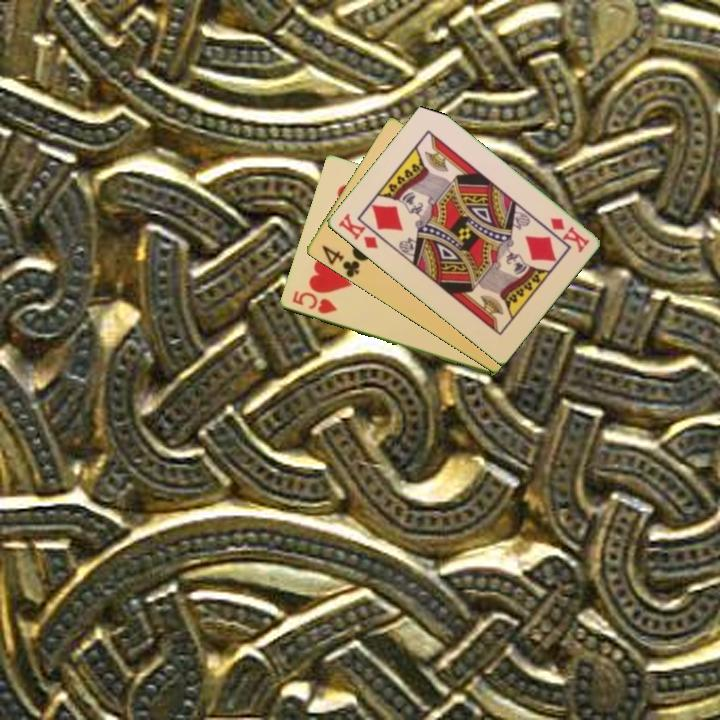4c: (318, 242, 362, 280)
5h: (288, 287, 340, 317)
Kd: (334, 209, 381, 252), (546, 214, 592, 255)
